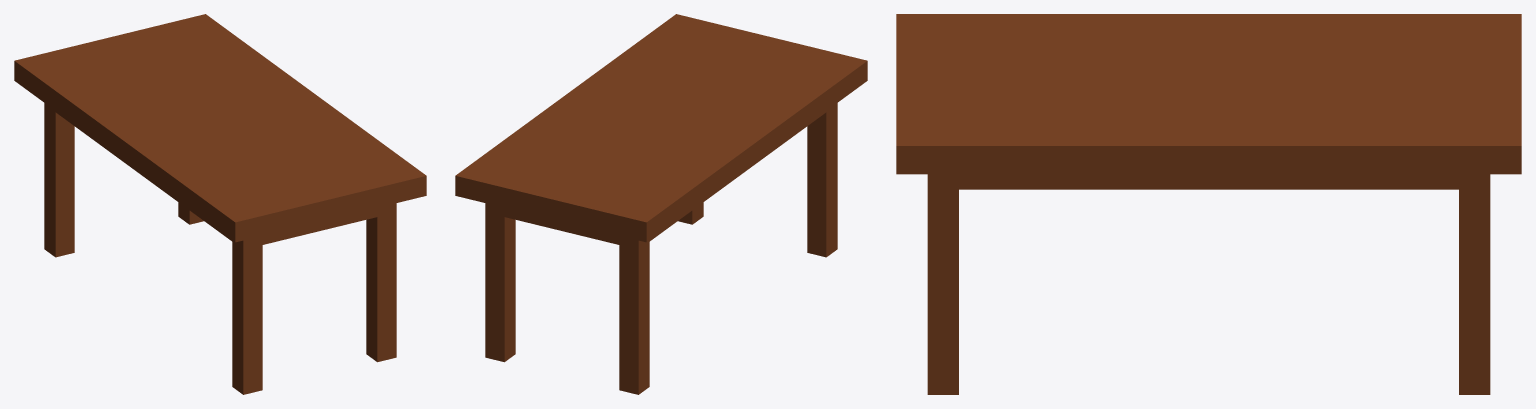
The model's file is coffee_table.glb.
The picture shows the model from 3 angles, left to right: view 1: azimuth 30°, elevation 25°; view 2: azimuth 150°, elevation 25°; view 3: azimuth 270°, elevation 25°; orthographic projection. The views are drawn at different scales.
Visible parts, largest first — view 1: Cube; view 2: Cube; view 3: Cube.
Boxes of the visible parts, x1,y1,x2,y2 form: Cube: [14, 14, 426, 394]; Cube: [455, 14, 867, 394]; Cube: [896, 14, 1521, 394].
Bounding box in the file's own units: 2 × 1.85 × 4.
